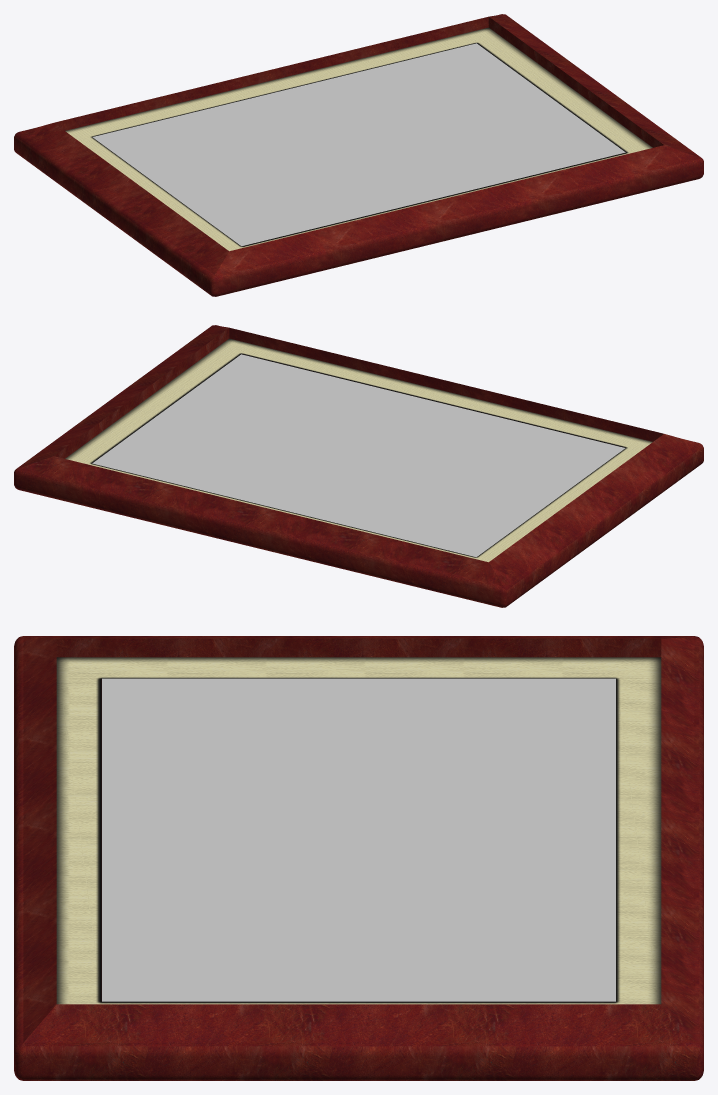
The model's file is frames.dae.
3 renders of one model, top to bottom at view 1: azimuth 30°, elevation 25°; view 2: azimuth 150°, elevation 25°; view 3: azimuth 270°, elevation 25°, orthographic. The views are drawn at different scales.
Parts seen in each view (by area): view 1: frame; view 2: frame; view 3: frame.
Boxes of the visible parts, <box> form: frame: <box>14,14,703,296</box>; frame: <box>14,325,703,607</box>; frame: <box>14,636,703,1080</box>.
Size of the model in its own units: 96 by 67.5 by 6.
Materials: 3 (2 with a texture image).
